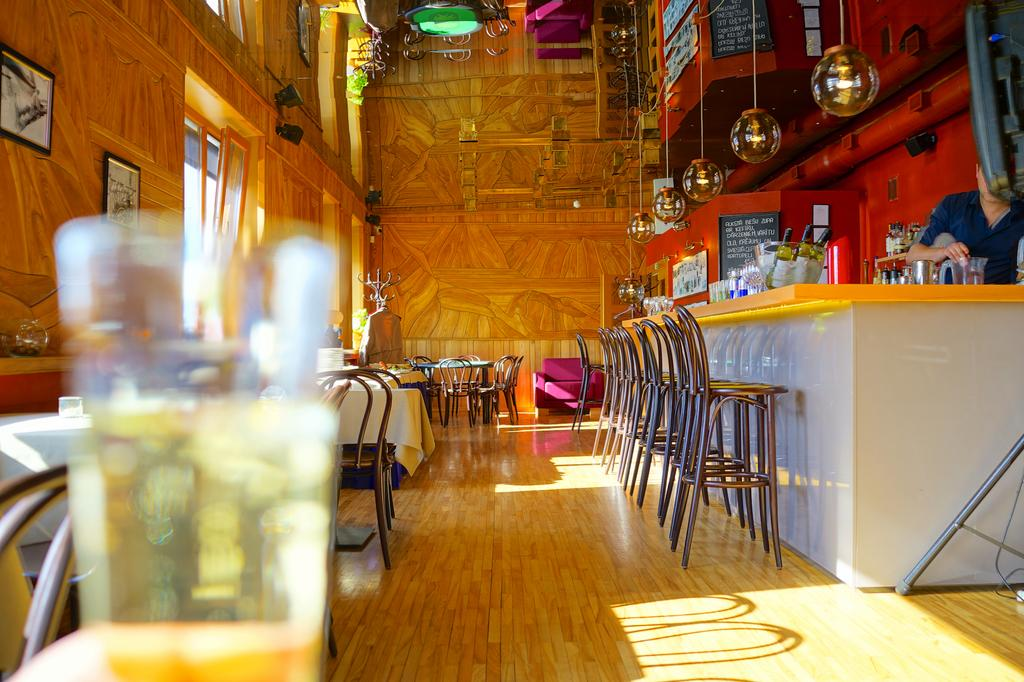Chair: (673, 306, 781, 570)
